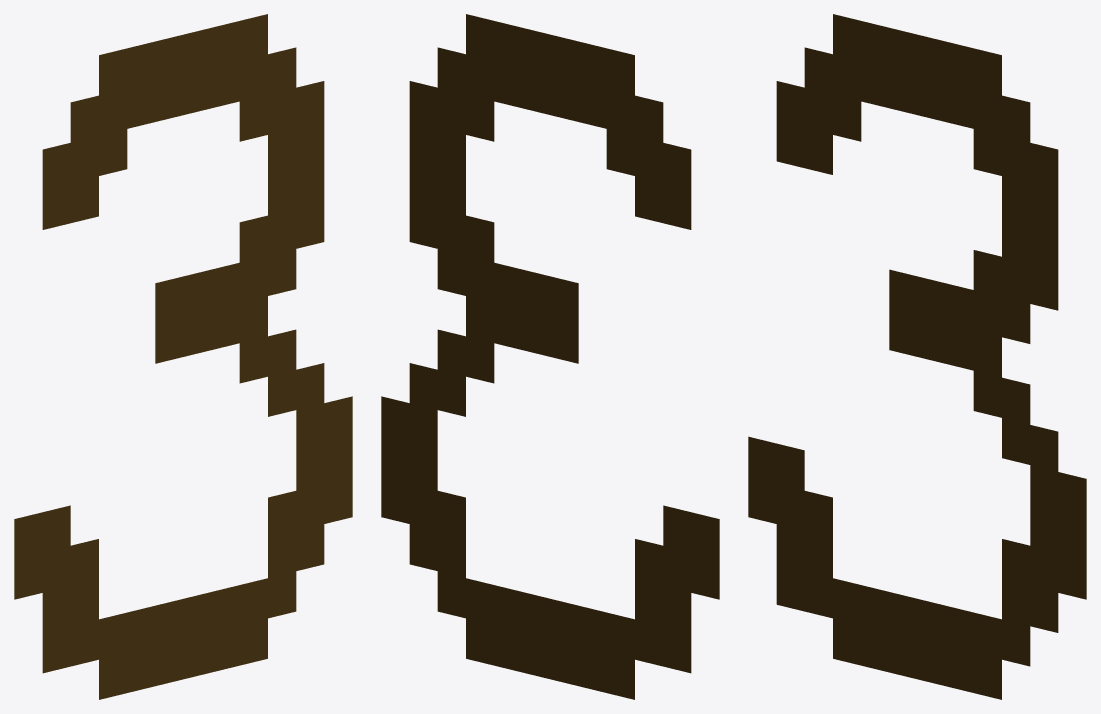
The model's file is score_glyph_3.obj.
3 views of the same model, side by side, from view 1: azimuth 30°, elevation 25°; view 2: azimuth 150°, elevation 25°; view 3: azimuth 330°, elevation 25° (orthographic).
Parts seen in each view (by area): view 1: board_text; view 2: board_text; view 3: board_text.
Boxes of the visible parts, box(x1,y1,x2,y2) form: board_text: box(14, 14, 352, 699); board_text: box(381, 14, 719, 699); board_text: box(748, 14, 1086, 699).
Bounding box in the file's own units: 0.5486 × 1 × 0.
